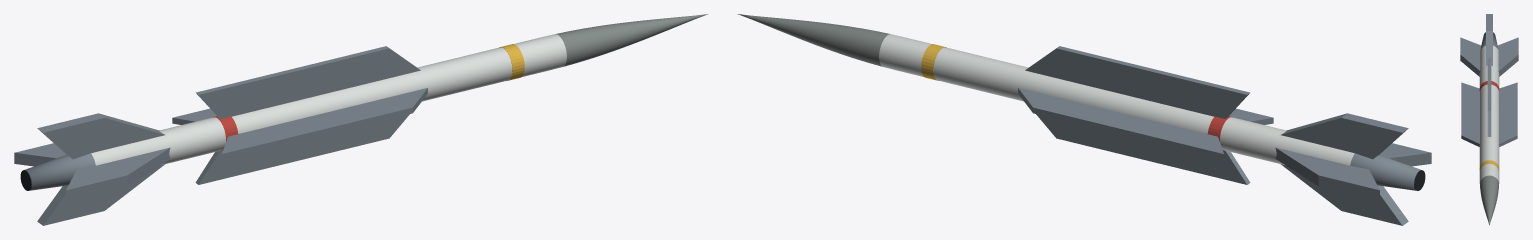
File: iris_t_aam.glb
3 views of the same model, side by side, from view 1: azimuth 30°, elevation 25°; view 2: azimuth 150°, elevation 25°; view 3: azimuth 270°, elevation 25° (orthographic). The views are drawn at different scales.
Parts seen in each view (by area): view 1: iris_t_aam; view 2: iris_t_aam; view 3: iris_t_aam.
Boxes of the visible parts, box(x1,y1,x2,y2) form: iris_t_aam: box(14, 14, 707, 225); iris_t_aam: box(738, 14, 1431, 225); iris_t_aam: box(1460, 14, 1518, 225).
Bounding box in the file's own units: 10 × 1.3 × 1.3.
